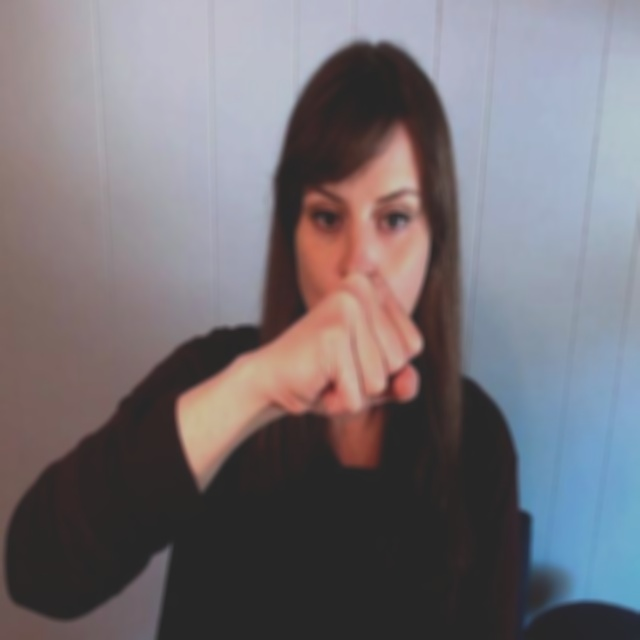Rock: (258, 270, 437, 423)
